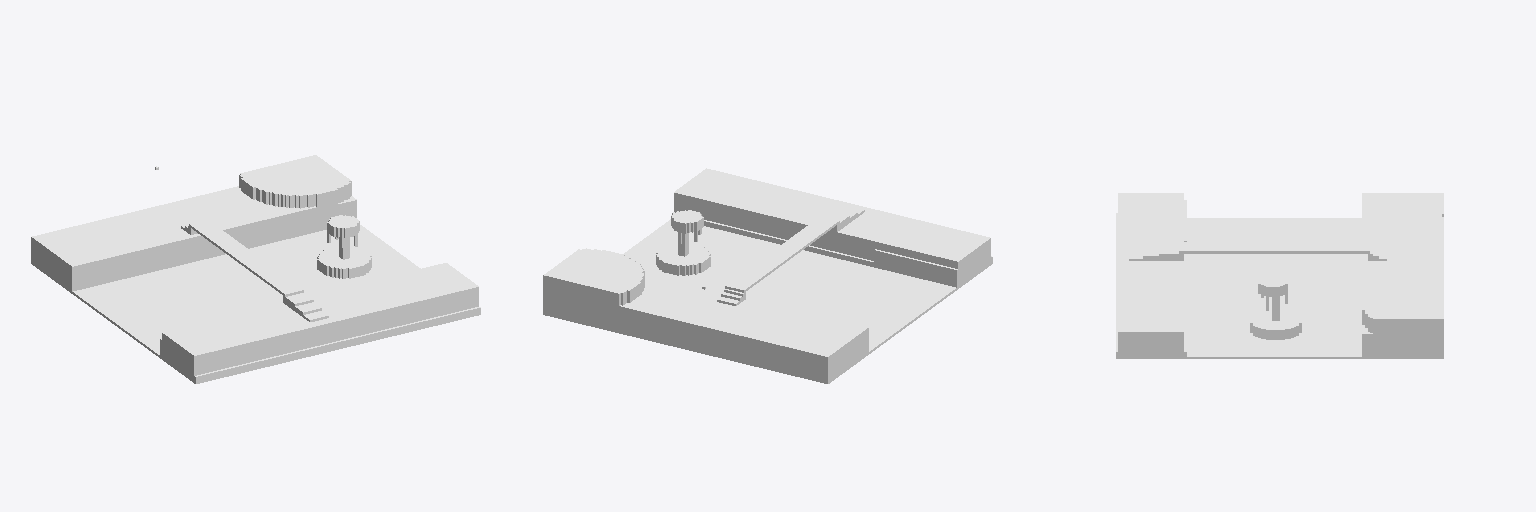
Rendered from place_river.obj.
3 views of the same model, side by side, from view 1: azimuth 30°, elevation 25°; view 2: azimuth 150°, elevation 25°; view 3: azimuth 270°, elevation 25° (orthographic).
Parts seen in each view (by area): view 1: place_river; view 2: place_river; view 3: place_river.
Boxes of the visible parts, x1=… form: place_river: x1=31, y1=155, x2=480, y2=383; place_river: x1=543, y1=168, x2=992, y2=383; place_river: x1=1116, y1=193, x2=1443, y2=358.
Bounding box in the file's own units: 120 × 27 × 120.